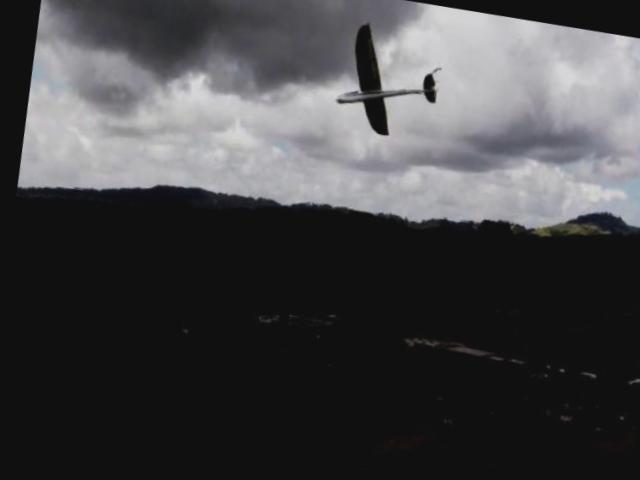iha: (321, 11, 456, 155)
